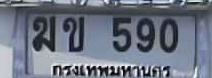0: (159, 18, 177, 52)
5: (112, 16, 130, 51)
9: (136, 17, 154, 51)
A02: (62, 16, 84, 51)
A06: (32, 15, 55, 50)
BKK: (49, 63, 173, 78)
